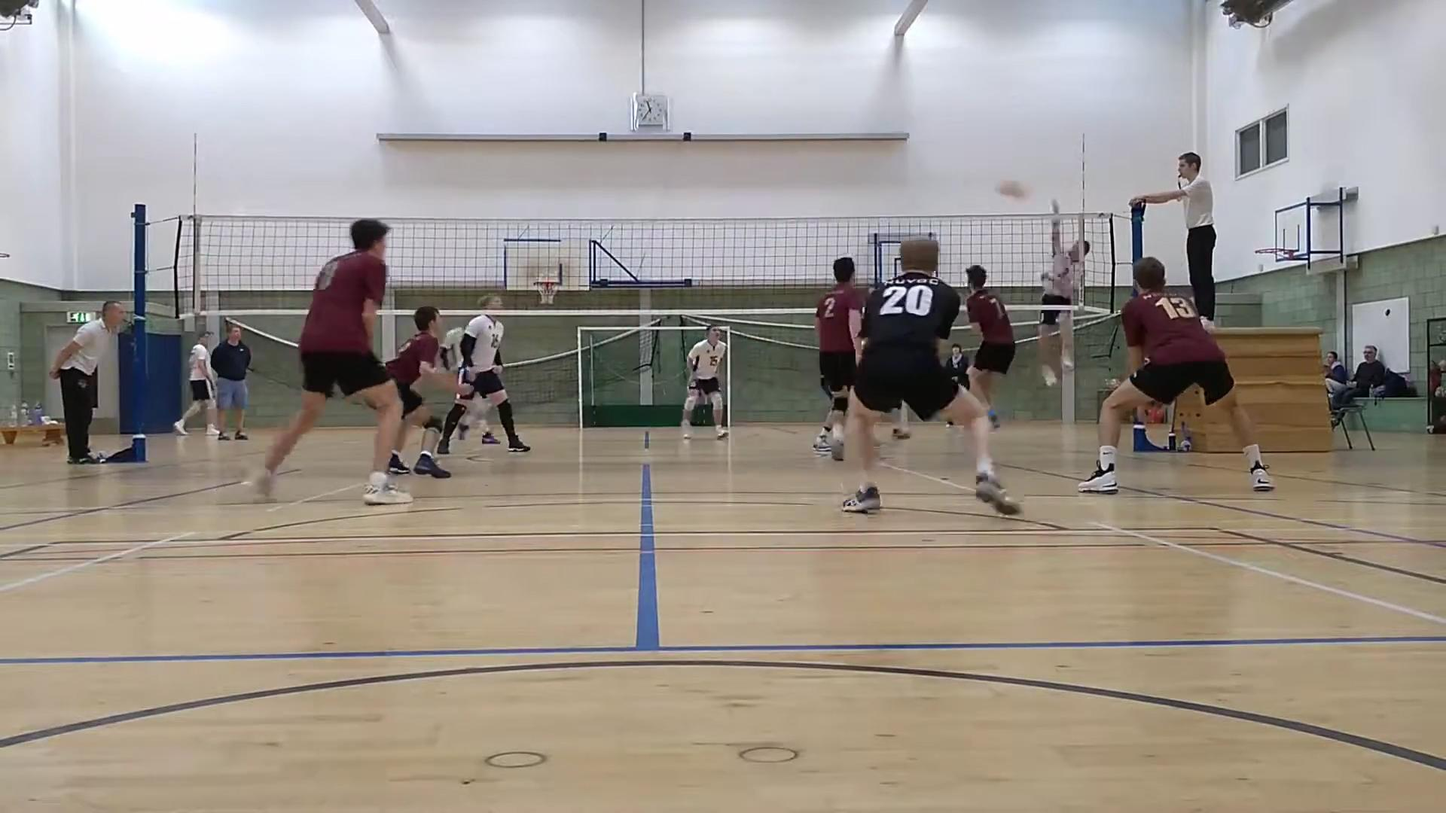Attack: (1031, 197, 1097, 390)
Player: (843, 239, 1018, 514), (1078, 257, 1273, 493), (253, 219, 412, 504), (386, 306, 471, 478), (438, 312, 530, 453), (813, 257, 862, 460), (965, 265, 1015, 427), (681, 327, 728, 439), (455, 397, 499, 444)
ball: (998, 180, 1036, 201)
